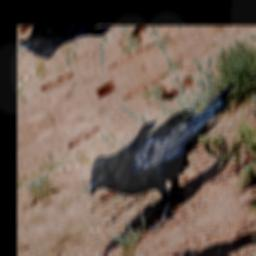Crow: (74, 74, 256, 255)
